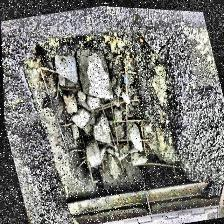pothole: (27, 18, 197, 208)
